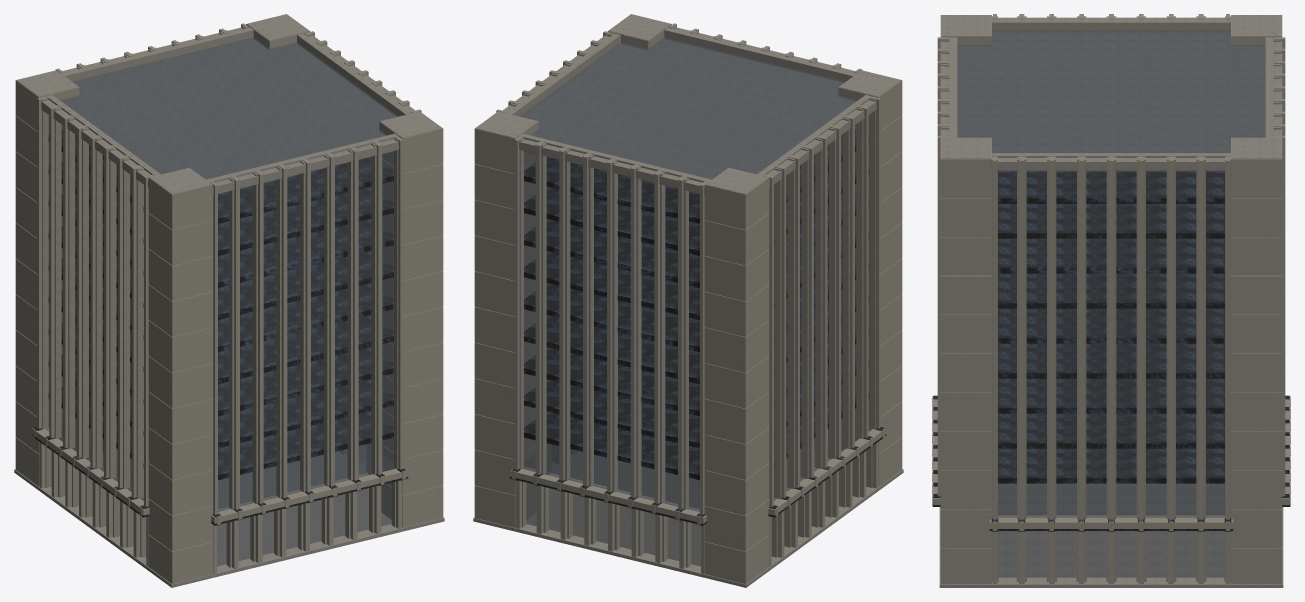
Rendered from building_gta.glb.
The picture shows the model from 3 angles, left to right: view 1: azimuth 30°, elevation 25°; view 2: azimuth 150°, elevation 25°; view 3: azimuth 270°, elevation 25°; orthographic projection. The views are drawn at different scales.
Parts seen in each view (by area): view 1: building_cream_concrete_facade, building_recessed_window_curtain_wall, building_concrete_pilasters_and_trim, building_bronze_spandrels_and_corbels, building_roof_deck; view 2: building_cream_concrete_facade, building_recessed_window_curtain_wall, building_concrete_pilasters_and_trim, building_bronze_spandrels_and_corbels, building_roof_deck; view 3: building_recessed_window_curtain_wall, building_cream_concrete_facade, building_bronze_spandrels_and_corbels, building_concrete_pilasters_and_trim, building_roof_deck.
Boxes of the visible parts, x1=… form: building_cream_concrete_facade: x1=15, y1=14, x2=443, y2=583; building_recessed_window_curtain_wall: x1=48, y1=37, x2=398, y2=566; building_concrete_pilasters_and_trim: x1=14, y1=14, x2=444, y2=587; building_bronze_spandrels_and_corbels: x1=31, y1=130, x2=408, y2=525; building_roof_deck: x1=62, y1=39, x2=396, y2=194; building_cream_concrete_facade: x1=474, y1=14, x2=902, y2=583; building_recessed_window_curtain_wall: x1=519, y1=37, x2=869, y2=566; building_concrete_pilasters_and_trim: x1=473, y1=14, x2=903, y2=587; building_bronze_spandrels_and_corbels: x1=509, y1=130, x2=886, y2=525; building_roof_deck: x1=521, y1=39, x2=855, y2=194; building_recessed_window_curtain_wall: x1=957, y1=30, x2=1265, y2=577; building_cream_concrete_facade: x1=932, y1=14, x2=1290, y2=583; building_bronze_spandrels_and_corbels: x1=932, y1=172, x2=1290, y2=531; building_concrete_pilasters_and_trim: x1=939, y1=15, x2=1283, y2=587; building_roof_deck: x1=957, y1=32, x2=1265, y2=171.
Size of the model in its own units: 6.71 by 8.86 by 6.71.
Materials: 5 (5 with a texture image).
